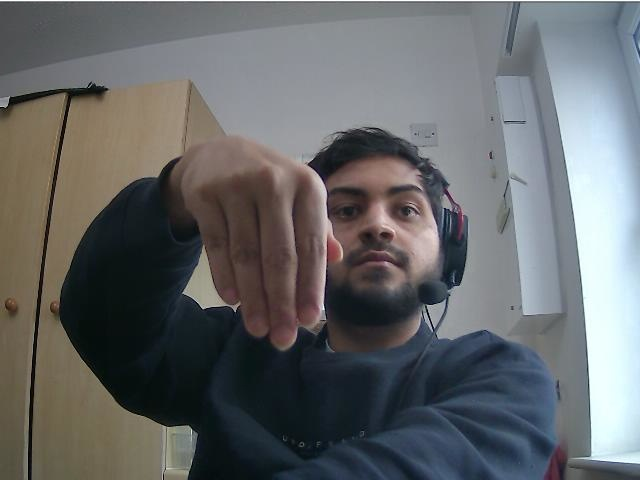down: (193, 136, 340, 352)
